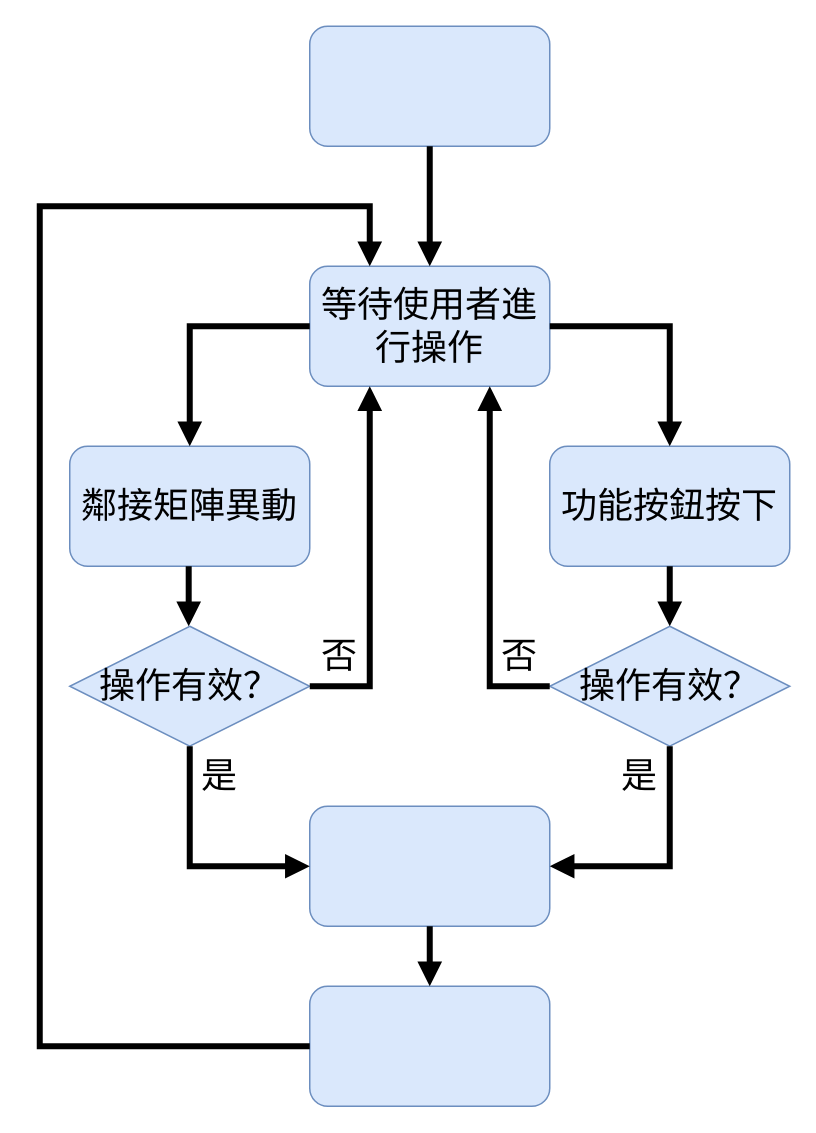
Some shapes in this 816 by 1133 pixel diagram are drawn without their labels. Each missing label, with the box of its shape:
圖演算法: (308, 805, 550, 926)
更新圖: (308, 985, 550, 1106)
網頁載入: (308, 25, 550, 146)
